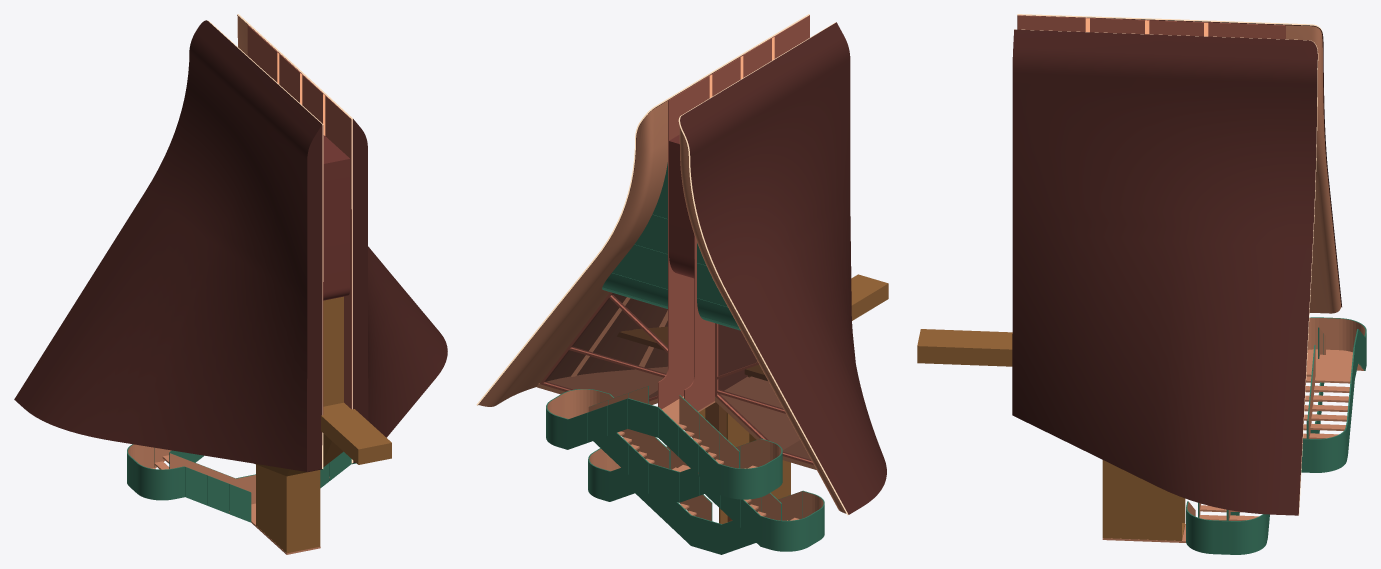
Rendered from dreamchasers.glb.
The picture shows the model from 3 angles, left to right: view 1: azimuth 30°, elevation 25°; view 2: azimuth 150°, elevation 25°; view 3: azimuth 270°, elevation 25°; orthographic projection. The views are drawn at different scales.
Parts seen in each view (by area): view 1: CHASERS, Group267, Box027, Box026, Box024; view 2: CHASERS, Group267, Line029, Box026, Box025, Box027, Box024, Box028; view 3: CHASERS, Group267, Box027, Line029, Box026.
Part boxes in pixels (<box>): CHASERS: <box>14,14,447,471</box>; Group267: <box>127,296,356,554</box>; Box027: <box>254,402,391,553</box>; Box026: <box>247,25,352,414</box>; Box024: <box>323,135,350,300</box>; CHASERS: <box>476,14,886,515</box>; Group267: <box>537,292,824,554</box>; Line029: <box>478,100,846,513</box>; Box026: <box>658,15,809,411</box>; Box025: <box>602,162,740,330</box>; Box027: <box>698,274,888,524</box>; Box024: <box>669,134,694,278</box>; Box028: <box>617,327,767,380</box>; CHASERS: <box>1012,14,1341,515</box>; Group267: <box>1102,317,1366,554</box>; Box027: <box>917,329,1185,540</box>; Line029: <box>1286,25,1341,313</box>; Box026: <box>1017,15,1285,39</box>.
Size of the model in its own units: 14.68 by 16.45 by 13.23.
